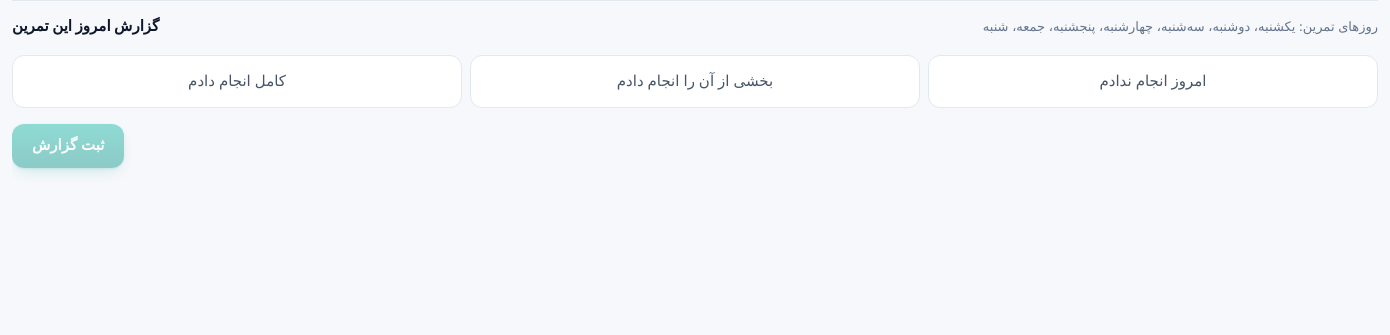
Test case: per-exercise reporting › warns to stop on pain of 7 or more
Step 1. Click the button "کامل انجام دادم" → (237, 81), box [12,55,462,108]
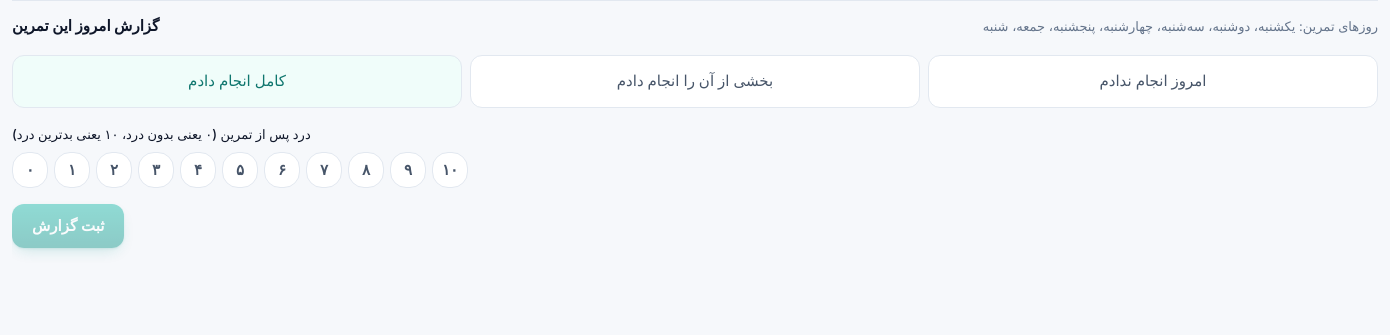
Step 2. Click the button named "درد ۷ از ۱۰" → (324, 170), box [306,152,342,188]
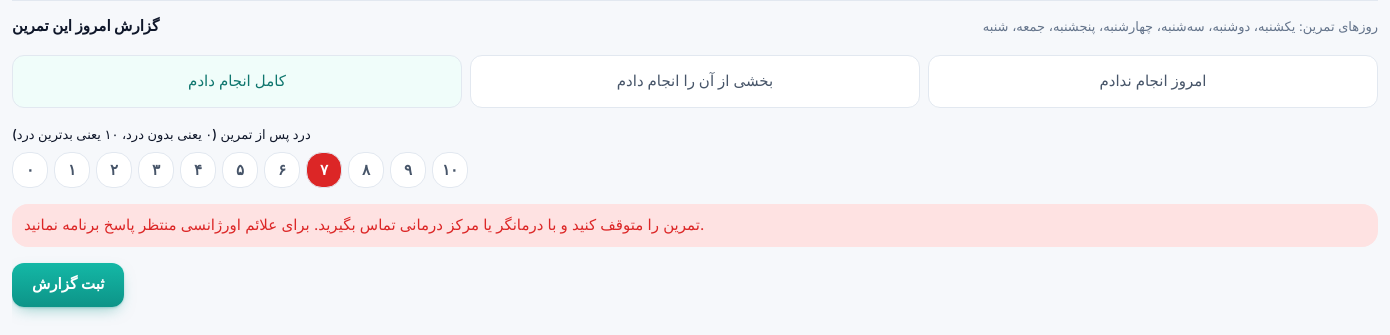
Now the message shows "تمرین را متوقف کنید", box [24,215,704,234]
